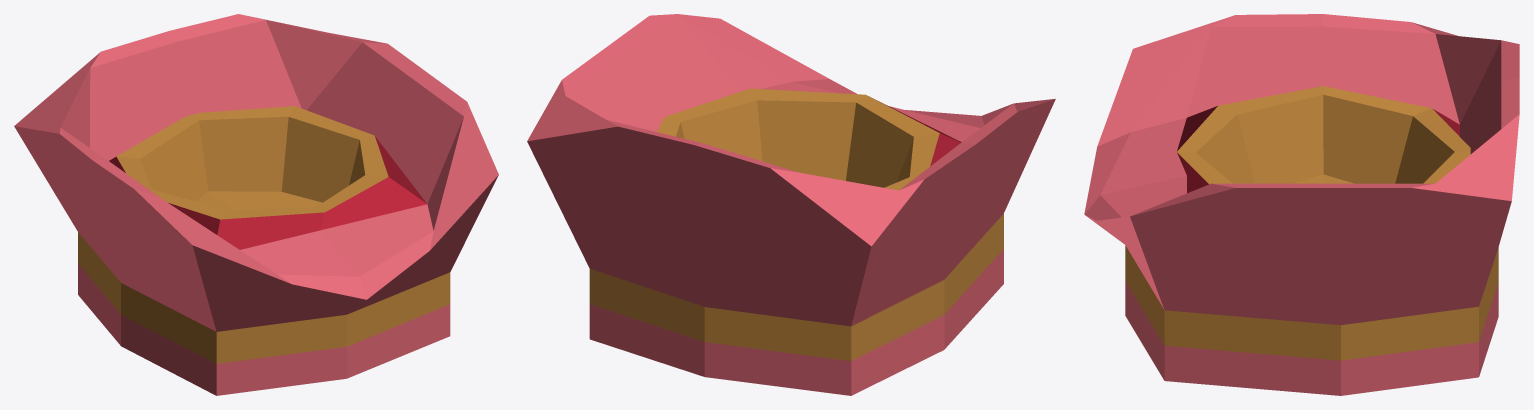
Rendered from altar.fbx.
3 renders of one model, left to right at view 1: azimuth 30°, elevation 25°; view 2: azimuth 150°, elevation 25°; view 3: azimuth 270°, elevation 25°, orthographic. The views are drawn at different scales.
Visible parts, largest first — view 1: 큐브, 큐브.001, 큐브.003, 큐브.002; view 2: 큐브, 큐브.001, 큐브.003, 큐브.002; view 3: 큐브, 큐브.001, 큐브.003, 큐브.002.
Part boxes in pixels (x1=…): 큐브: x1=14, y1=14, x2=498, y2=395; 큐브.001: x1=78, y1=106, x2=450, y2=363; 큐브.003: x1=140, y1=116, x2=365, y2=210; 큐브.002: x1=109, y1=136, x2=426, y2=249; 큐브: x1=527, y1=14, x2=1055, y2=395; 큐브.001: x1=589, y1=88, x2=1003, y2=360; 큐브.003: x1=676, y1=100, x2=913, y2=187; 큐브.002: x1=869, y1=96, x2=961, y2=166; 큐브: x1=1084, y1=14, x2=1519, y2=395; 큐브.001: x1=1125, y1=86, x2=1498, y2=360; 큐브.003: x1=1196, y1=94, x2=1454, y2=183; 큐브.002: x1=1177, y1=106, x2=1459, y2=193.
Bounding box in the file's own units: 305 × 189 × 311.
